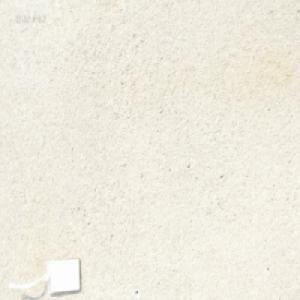LuggageTag: (7, 256, 81, 295)
